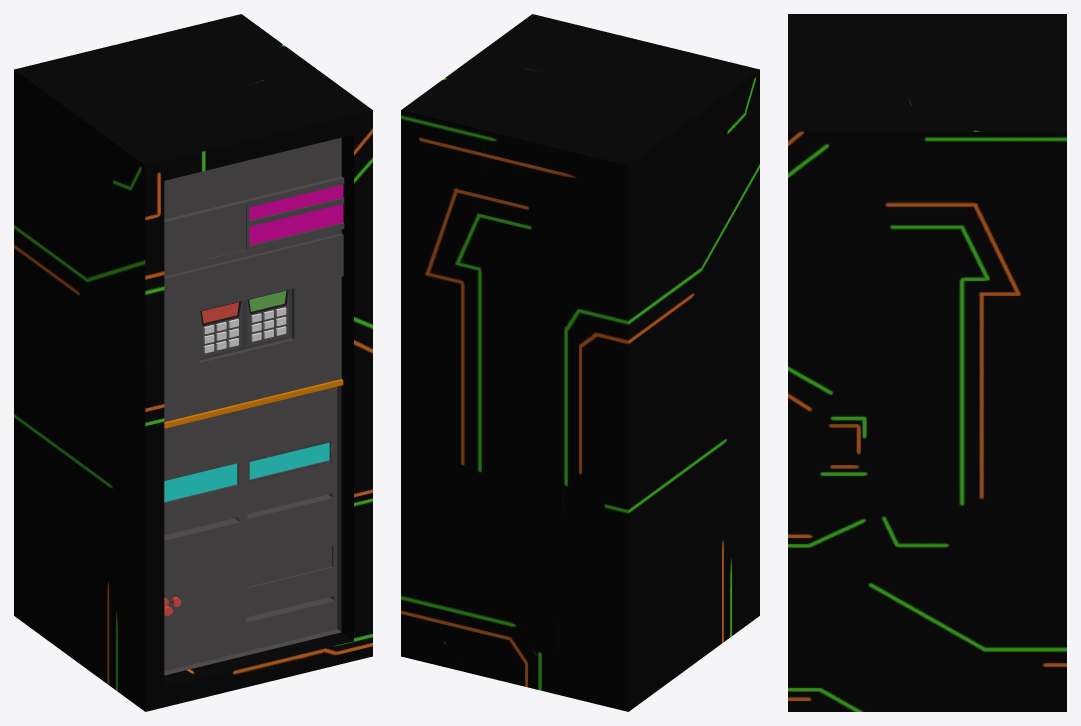
Rendered from Servidor.fbx.
3 renders of one model, left to right at view 1: azimuth 30°, elevation 25°; view 2: azimuth 150°, elevation 25°; view 3: azimuth 270°, elevation 25°, orthographic. The views are drawn at different scales.
Parts seen in each view (by area): view 1: Cube; view 2: Cube; view 3: Cube.
Part boxes in pixels (x1,y1,x2,y2): Cube: [14, 14, 372, 711]; Cube: [401, 14, 759, 711]; Cube: [788, 14, 1066, 711].
Bounding box in the file's own units: 200 × 459 × 200.
10 materials, 3 textured.
